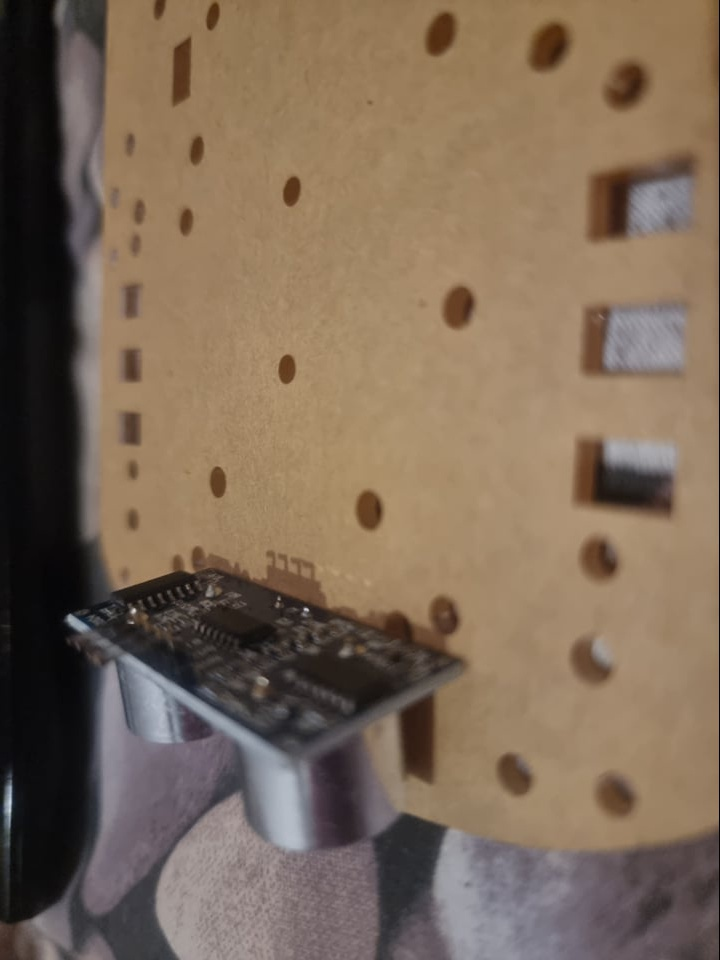SENSOR: (66, 561, 468, 854)
